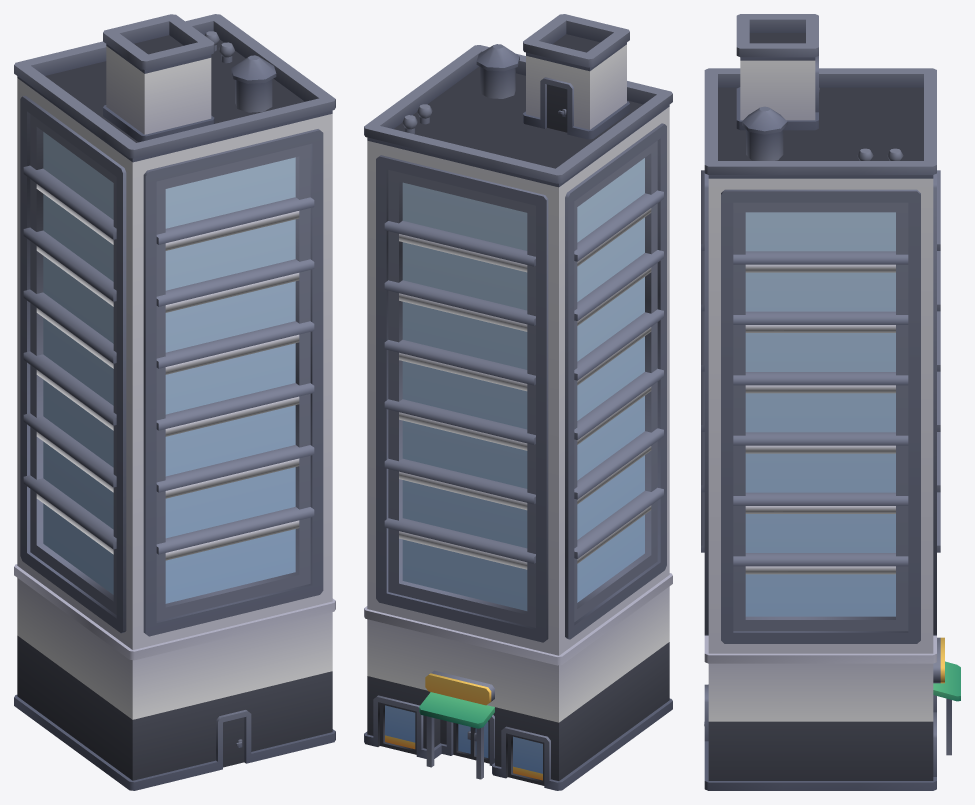
Rendered from commercial_building_skyscraper_c.glb.
3 renders of one model, left to right at view 1: azimuth 30°, elevation 25°; view 2: azimuth 150°, elevation 25°; view 3: azimuth 270°, elevation 25°, orthographic. The views are drawn at different scales.
Visible parts, largest first — view 1: building-skyscraper-c; view 2: building-skyscraper-c; view 3: building-skyscraper-c.
Part boxes in pixels (left/top/right/bottom): building-skyscraper-c: left=14, top=14, right=335, bottom=790; building-skyscraper-c: left=364, top=14, right=672, bottom=790; building-skyscraper-c: left=701, top=14, right=960, bottom=790.
Bounding box in the file's own units: 7.68 × 24.48 × 8.33.
Materials: 1 (1 with a texture image).
